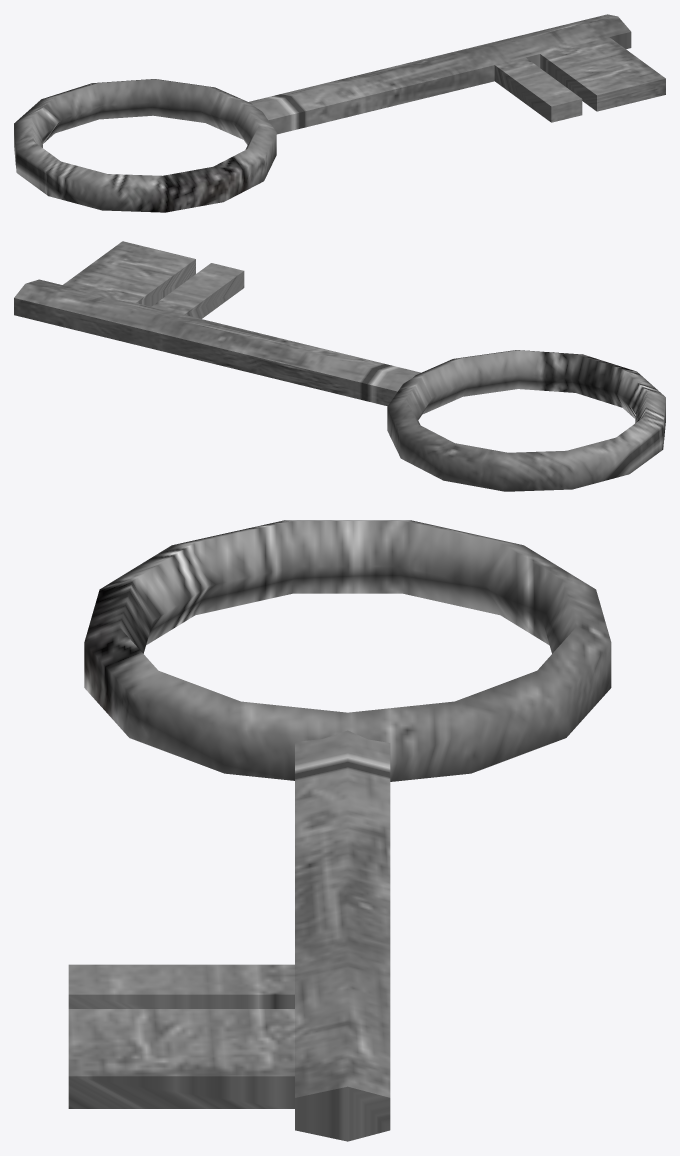
Rendered from clef_domestique.fbx.
The picture shows the model from 3 angles, top to bottom: view 1: azimuth 30°, elevation 25°; view 2: azimuth 150°, elevation 25°; view 3: azimuth 270°, elevation 25°; orthographic projection. The views are drawn at different scales.
Parts seen in each view (by area): view 1: polySurface1926; view 2: polySurface1926; view 3: polySurface1926.
Boxes of the visible parts, x1,y1,x2,y2 form: polySurface1926: [14, 14, 665, 212]; polySurface1926: [14, 241, 665, 491]; polySurface1926: [68, 520, 611, 1141].
Bounding box in the file's own units: 11.82 × 0.7013 × 4.74.
